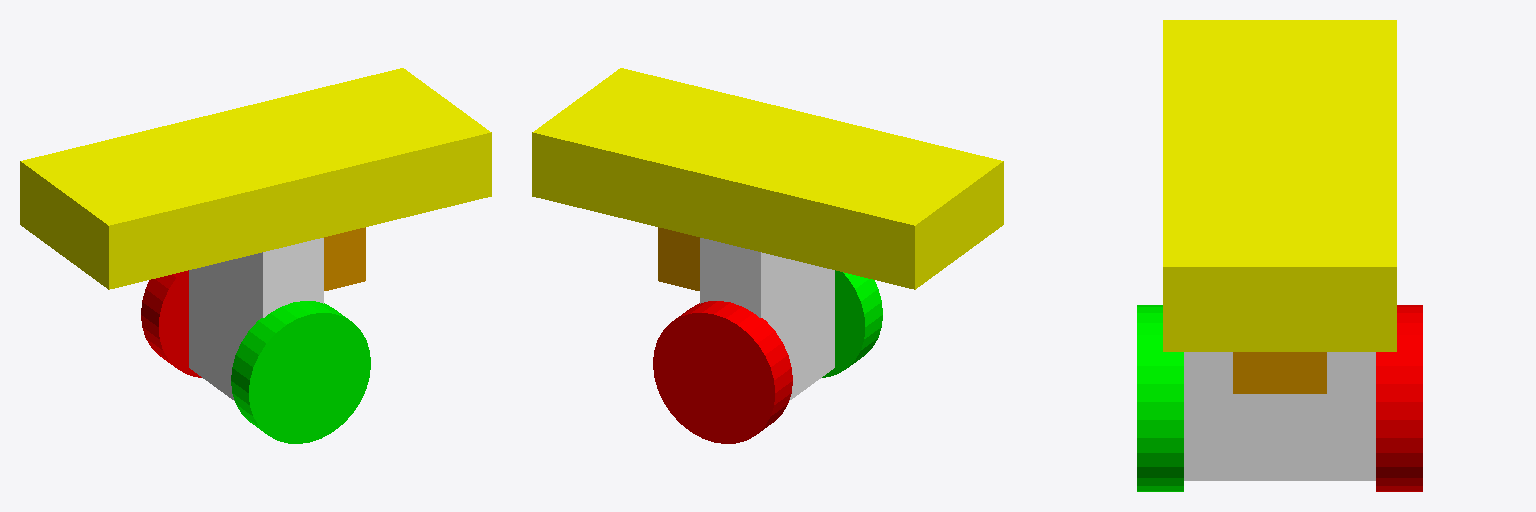
robot.urdf — physics:
<?xml version="1.0"?>
<robot name="physics">

    <link name="baseLink">
        <contact>
          <lateral_friction value="100.0"/>
          <inertia_scaling value="1.0"/>
        </contact>
        <inertial>
            <origin rpy="0 0 0" xyz="0 0 0.025"/>
            <mass value=".3"/>
            <inertia ixx="0.0004" ixy="0" ixz="0" iyy="0.0004" iyz="0" izz="0.00015"/>
        </inertial>
        <visual>
            <origin rpy="0 0 0" xyz="0 0 0.025"/>
            <geometry>
                <box size="0.04 0.085 0.11"/>
            </geometry>
            <material name="white">
                <color rgba="1 1 1 1"/>
            </material>
        </visual>
        <visual>
            <origin rpy="0 0 0" xyz="0 0 0.1"/>
            <geometry>
                <box size="0.25 0.1 0.04"/>
            </geometry>
            <material name="yellow">
                <color rgba="1 1 0 1"/>
            </material>
        </visual>
        <visual>
            <origin rpy="0 0 0" xyz="0.04 0 0.05"/>
            <geometry>
                <box size="0.04 0.04 0.04"/>
            </geometry>
        </visual>
        <collision>
            <origin rpy="0 0 0" xyz="0 0 0.1"/>
            <geometry>
                <box size="0.08 0.1 0.04"/>
            </geometry>
        </collision>
    </link>

    <link name="wheel_left">
        <inertial>
            <origin rpy="0 0 0" xyz="0 0 0"/>
            <mass value=".01"/>
            <inertia ixx="0.000012" ixy="0" ixz="0" iyy="0.000012" iyz="0" izz="0.000012"/>
        </inertial>
        <visual>
          <origin rpy="0 0 0" xyz="0 0 0"/>
          <geometry>
                    <cylinder length="0.02" radius="0.04"/>
          </geometry>
           <material name="red">
            <color rgba="1 0 0 1"/>
          </material>
        </visual>
        <collision>
          <origin rpy="0 0 0" xyz="0 0 0"/>
          <geometry>
            <cylinder length="0.02" radius="0.04"/>
          </geometry>
        </collision>
    </link>

    <joint name="wheel_left_joint" type="continuous">
        <origin rpy="1.5708 0 0" xyz="0 0.051 0"/>
        <parent link="baseLink"/>
        <child link="wheel_left"/>
        <axis xyz="0 0 -1"/>
    </joint>

    <link name="wheel_right">
        <inertial>
            <origin rpy="0 0 0" xyz="0 0 0"/>
            <mass value=".01"/>
            <inertia ixx="0.000012" ixy="0" ixz="0" iyy="0.000012" iyz="0" izz="0.000012"/>
        </inertial>
        <visual>
          <origin rpy="0 0 0" xyz="0 0 0"/>
          <geometry>
                    <cylinder length="0.02" radius="0.04"/>
          </geometry>
           <material name="green">
            <color rgba="0 1 0 1"/>
          </material>
        </visual>
        <collision>
          <origin rpy="0 0 0" xyz="0 0 0"/>
          <geometry>
            <cylinder length="0.02" radius="0.04"/>
          </geometry>
        </collision>
    </link>

    <joint name="wheel_right_joint" type="continuous">
        <origin rpy="1.5708 0 0" xyz="0 -0.051 0"/>
        <parent link="baseLink"/>
        <child link="wheel_right"/>
        <axis xyz="0 0 -1"/>
    </joint>




</robot>

--- Render facts (derived) ---
3 views of the same robot in one strip: view 1: azimuth 30°, elevation 25°; view 2: azimuth 150°, elevation 25°; view 3: azimuth 270°, elevation 25° (orthographic).
Model physics with 3 links and 2 joints (2 continuous), rooted at baseLink, posed all joints at 0.
Links seen in each view (by area): view 1: baseLink, wheel_right, wheel_left; view 2: baseLink, wheel_left, wheel_right; view 3: baseLink, wheel_left, wheel_right.
Boxes of the visible links, x1=… form: baseLink: x1=20, y1=68, x2=491, y2=400; wheel_right: x1=231, y1=301, x2=370, y2=443; wheel_left: x1=141, y1=270, x2=201, y2=377; baseLink: x1=532, y1=68, x2=1003, y2=400; wheel_left: x1=653, y1=301, x2=792, y2=443; wheel_right: x1=822, y1=270, x2=882, y2=377; baseLink: x1=1163, y1=20, x2=1396, y2=480; wheel_left: x1=1376, y1=305, x2=1422, y2=491; wheel_right: x1=1137, y1=305, x2=1183, y2=491.
Size in the robot's own frame: 0.25 by 0.122 by 0.16 metres.
Geometry: primitives only (box / cylinder / sphere), no mesh files.